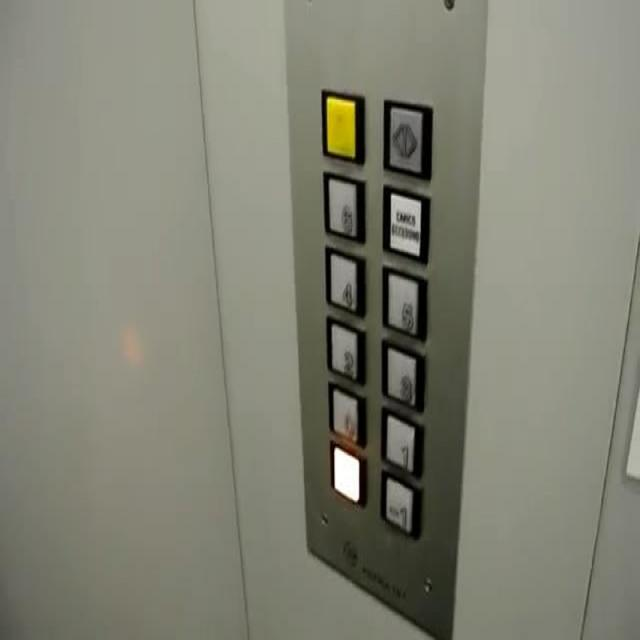-1: (379, 464, 422, 541)
0: (326, 376, 368, 448)
1: (378, 401, 426, 479)
2: (324, 311, 368, 385)
3: (379, 334, 427, 414)
4: (323, 240, 367, 320)
5: (380, 260, 429, 343)
6: (320, 167, 367, 245)
empty: (319, 85, 366, 167), (328, 438, 369, 510)
open: (381, 92, 434, 181)
text: (381, 180, 432, 267)
